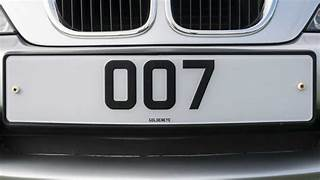number_plate: (5, 53, 314, 123)
